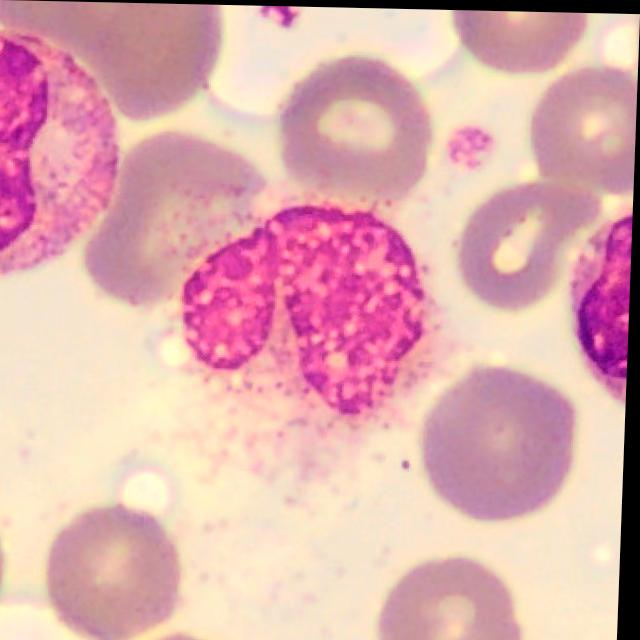Artefato: (161, 187, 445, 492)
